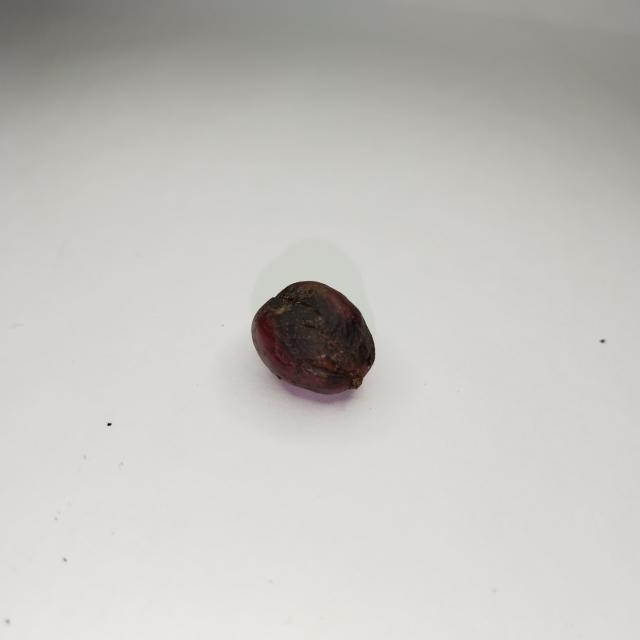Danado: (251, 281, 373, 395)
